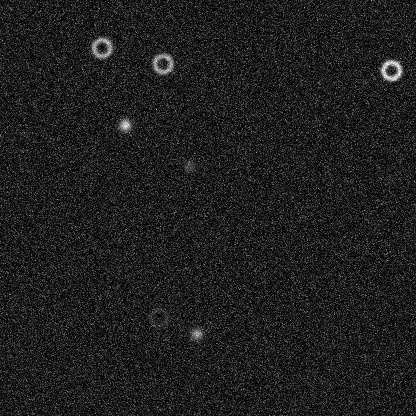Ring: (379, 58, 403, 82), (150, 51, 174, 75), (146, 305, 170, 329), (89, 35, 113, 59)
Spot: (181, 157, 197, 173), (188, 325, 204, 341), (117, 117, 133, 133)
